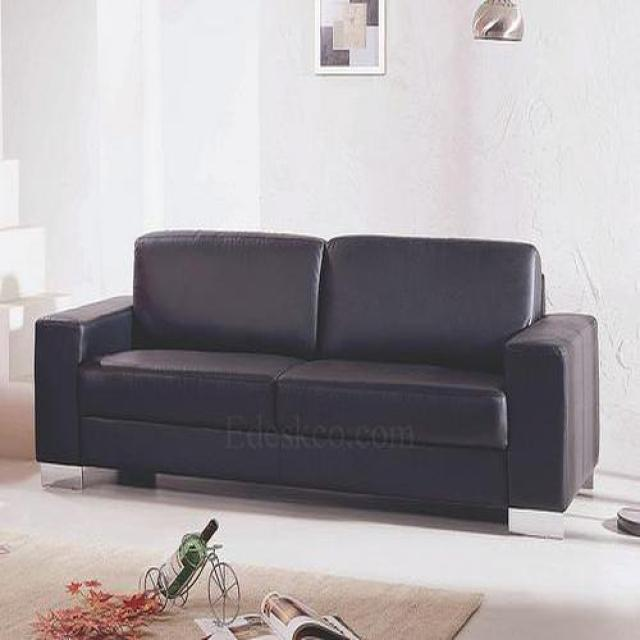sofa: (33, 230, 600, 529)
